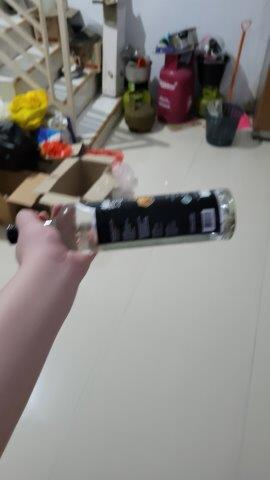botolkaca: (7, 186, 237, 244)
